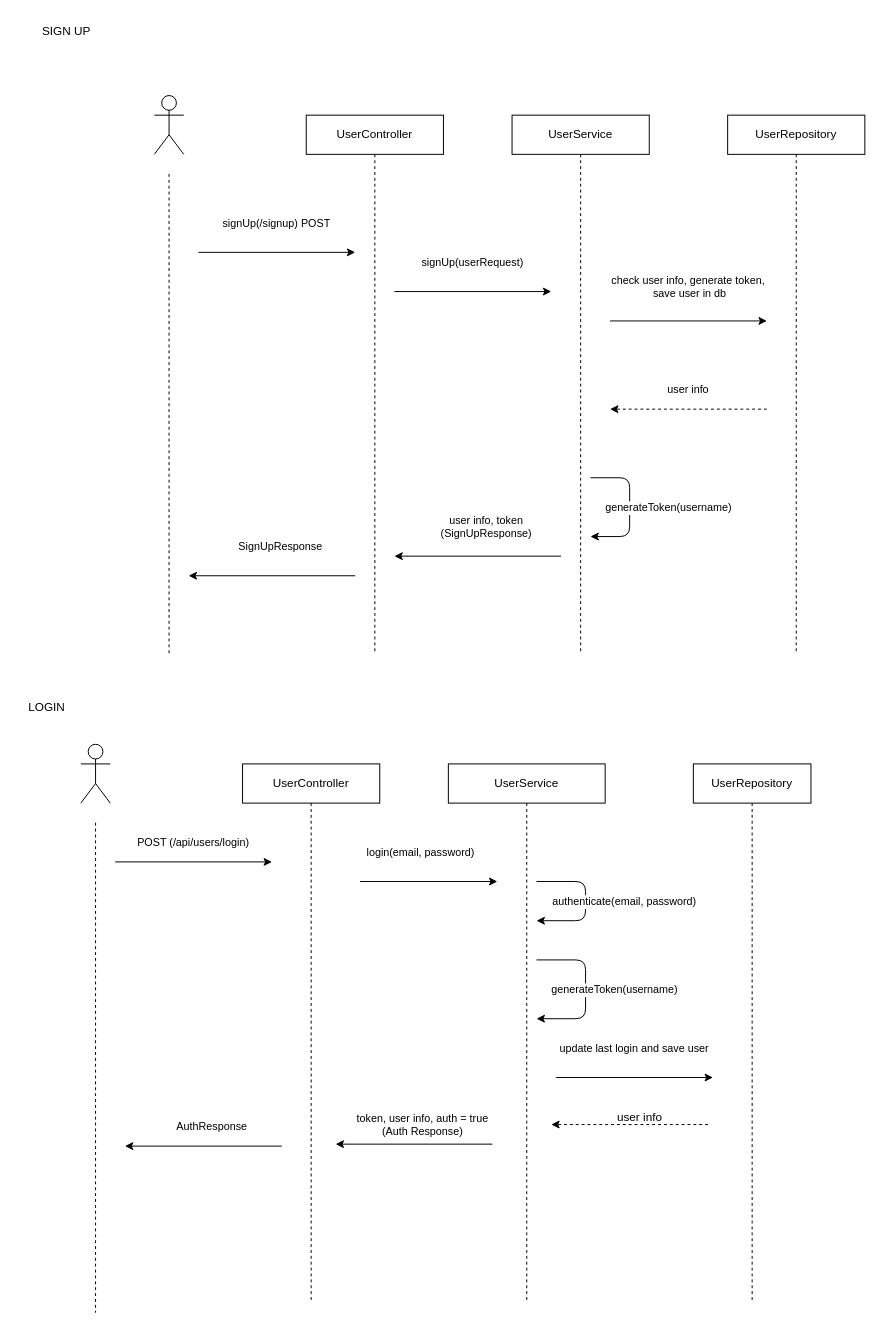
This 882x1330 diagram has some shape labels left out. The box of each missing label's shape, as (x1, y1, x2, y2) in pixels:
Potential User: (99, 173, 238, 654)
User: (26, 822, 164, 1313)
